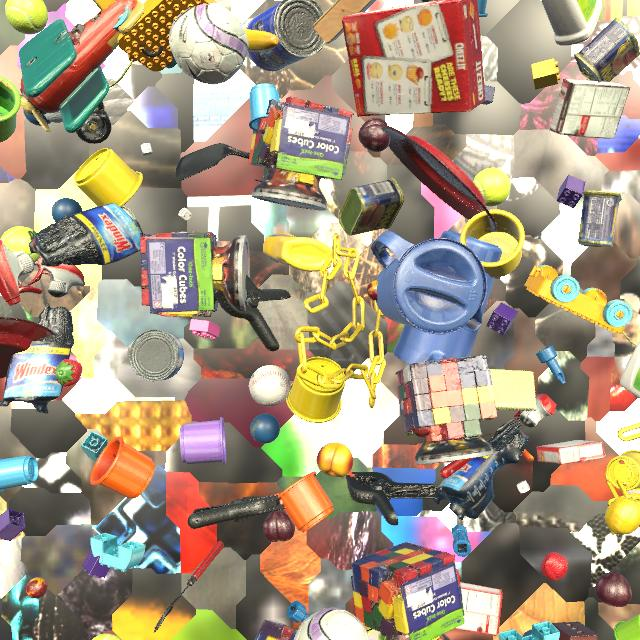ycb_002_master_chef_can: (246, 0, 325, 71)
ycb_003_cracker_box: (342, 0, 486, 117)
ycb_005_tomato_soup_can: (121, 206, 136, 220)
ycb_006_mustard_bottle: (263, 233, 333, 272)
ycb_007_tuna_fish_can: (129, 330, 184, 381)
ycb_008_pudding_box: (549, 78, 630, 139)
ycb_009_gelatin_box: (454, 582, 503, 636), (536, 440, 606, 464)
ycb_010_potted_meat_can: (574, 18, 640, 83), (339, 178, 404, 236), (578, 190, 622, 247)
ycb_011_banana: (244, 28, 279, 52)
ycb_012_strawberry: (54, 359, 83, 386), (541, 552, 568, 581)
ycb_014_lemon: (605, 497, 640, 535)
ycb_015_peach: (317, 443, 353, 477)
ycb_018_plum: (595, 572, 632, 607), (358, 118, 391, 152), (263, 510, 295, 542)
